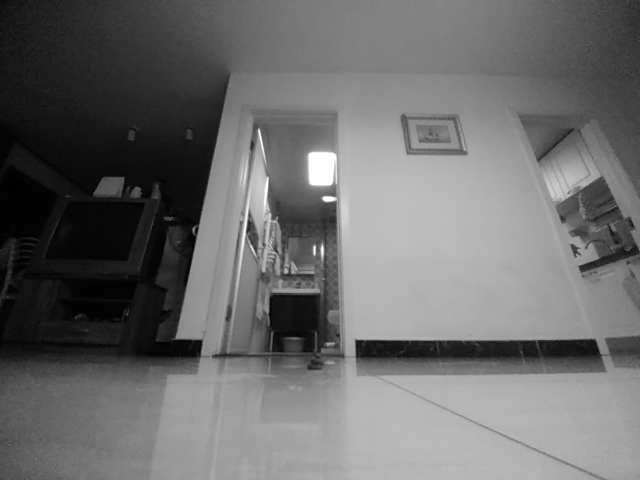pet feces: (308, 351, 324, 371)
